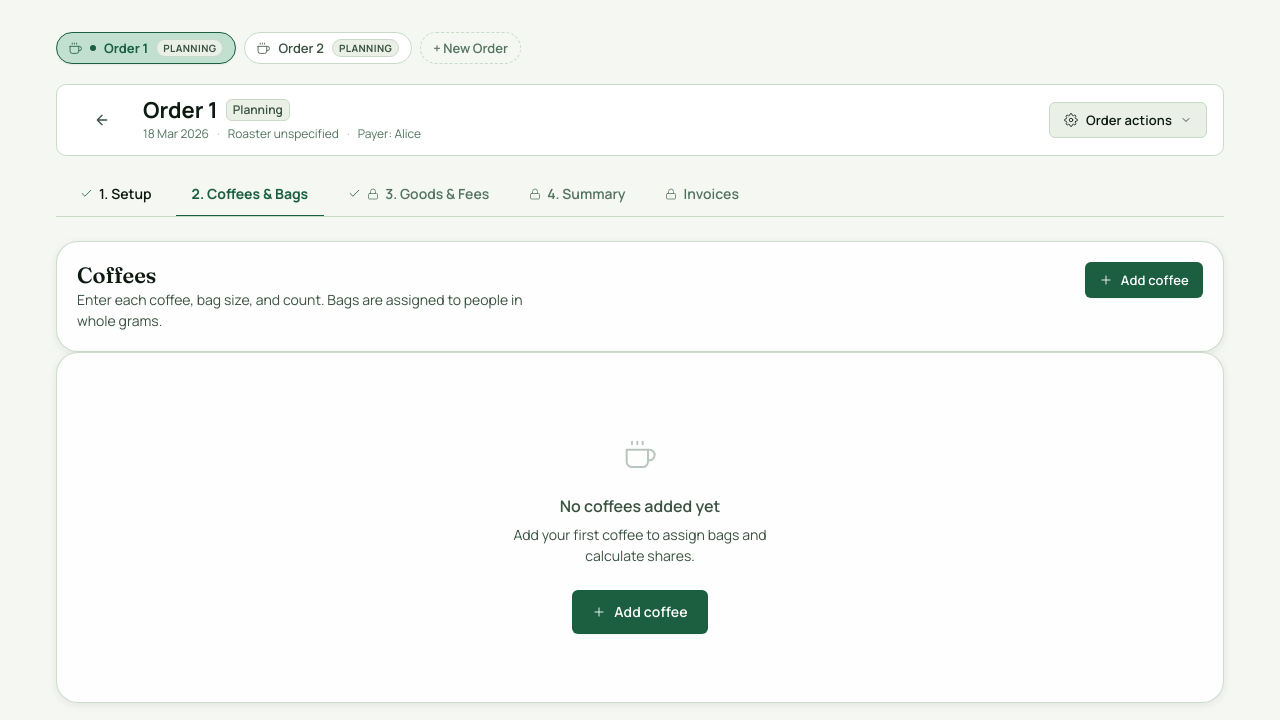
Test: OrderPage component tests › Delete Order › cancel leaves the order alone and confirm deletes it, selecting the next order
Click the button with class "order-actions-trigger". click: (1128, 120)
box: [1049,102,1207,138]
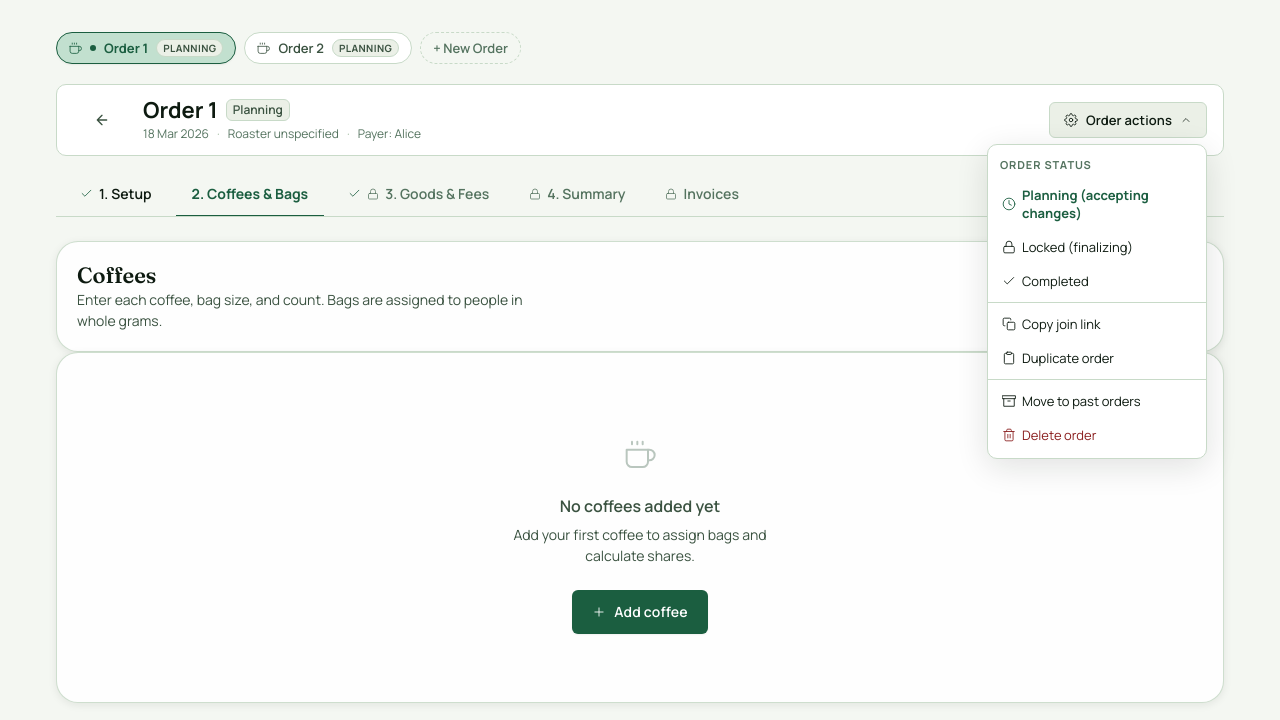
Result: the button with class "dropdown-item" showing "Delete order" is shown
Click the button with class "dropdown-item" showing "Delete order". click: (1097, 435)
box: [988,418,1206,452]
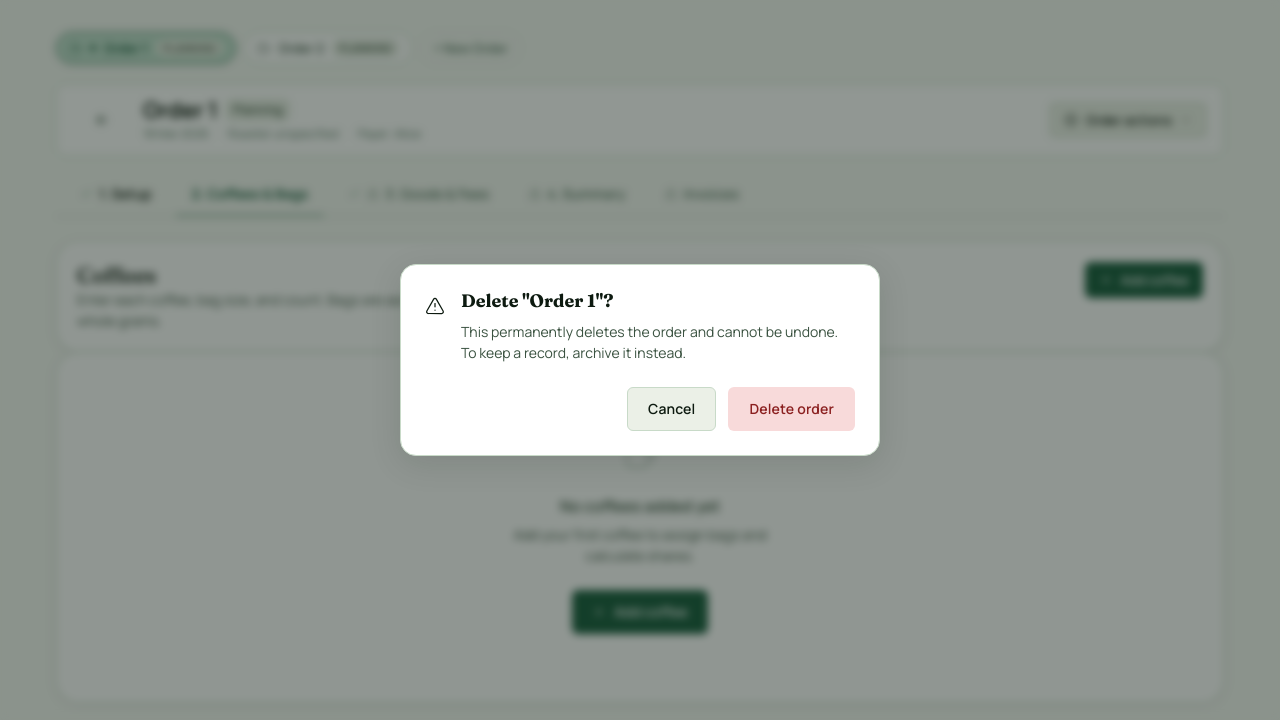
Result: the text "Delete \"Order 1\"?" is shown at [461,289,613,312]
Result: the button "Cancel" is shown
Click the button "Cancel". click: (672, 409)
box: [627,387,716,431]
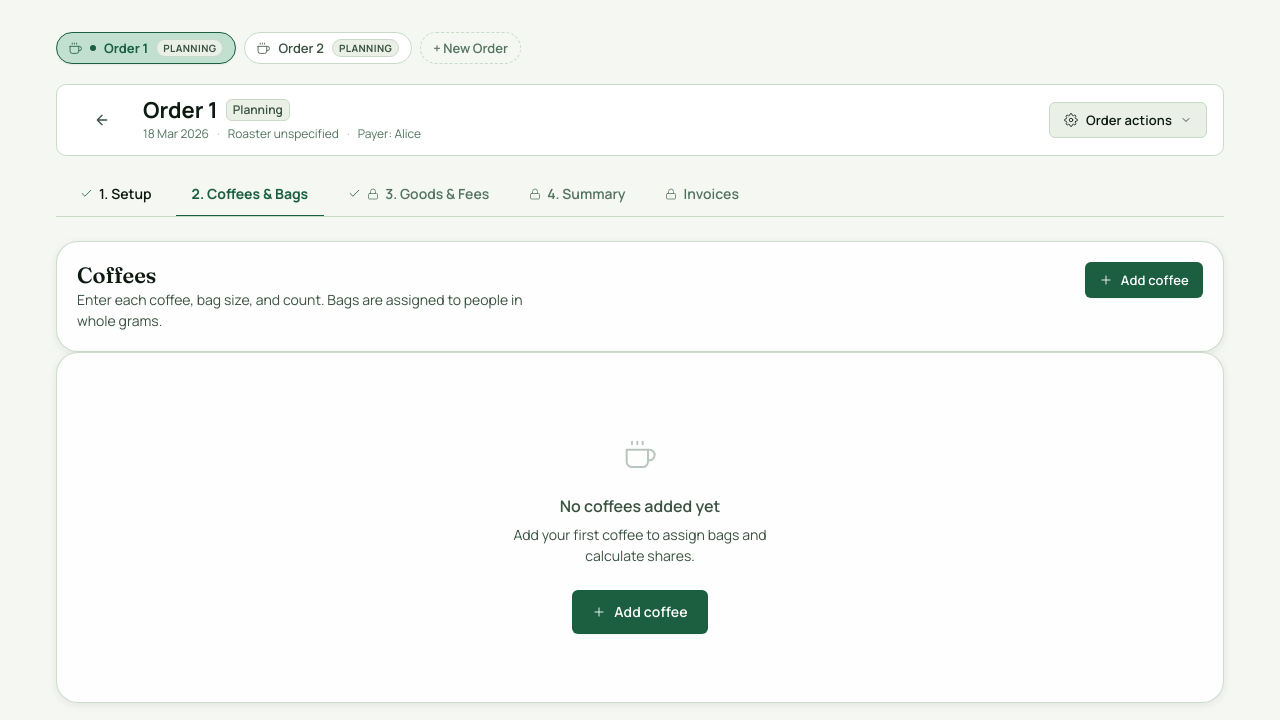
Click the button "Order actions". click: (1128, 120)
box: [1049,102,1207,138]
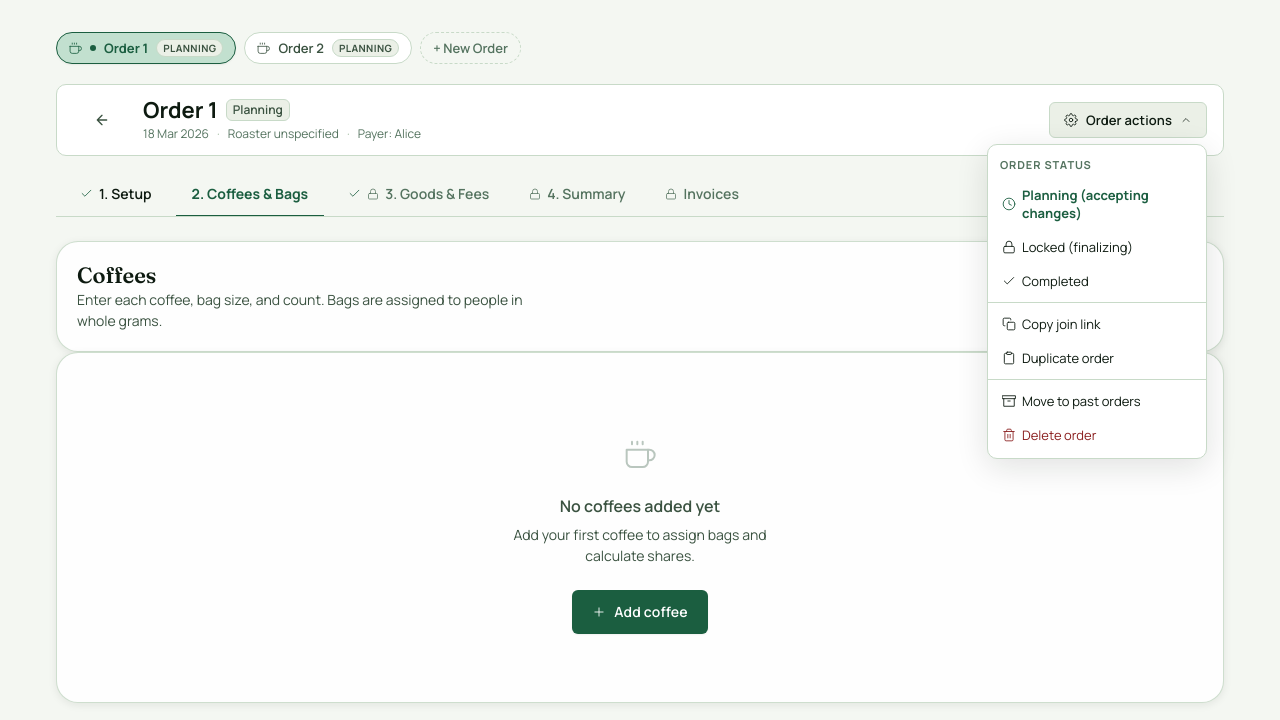
Result: the button with class "dropdown-item" showing "Delete order" is shown
Click the button with class "dropdown-item" showing "Delete order". click: (1097, 435)
box: [988,418,1206,452]
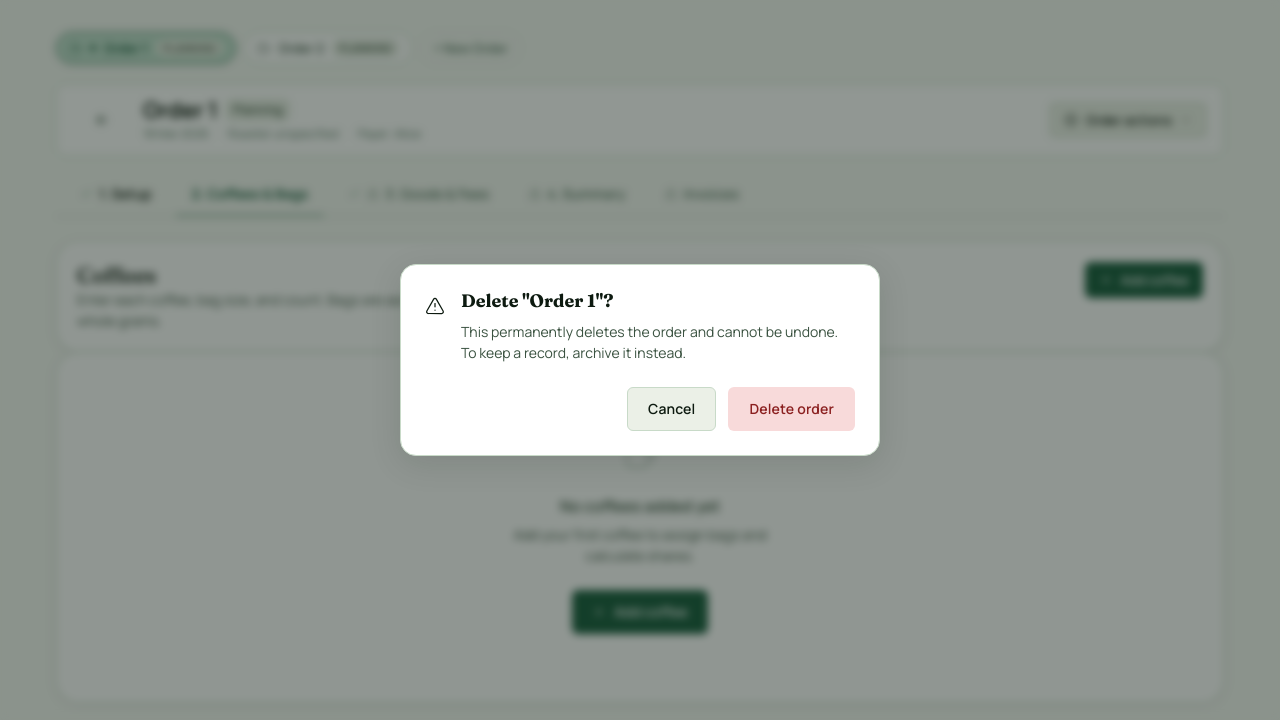
Result: the button "Delete order" is shown
Click the button "Delete order". click: (792, 409)
box: [728,387,855,431]
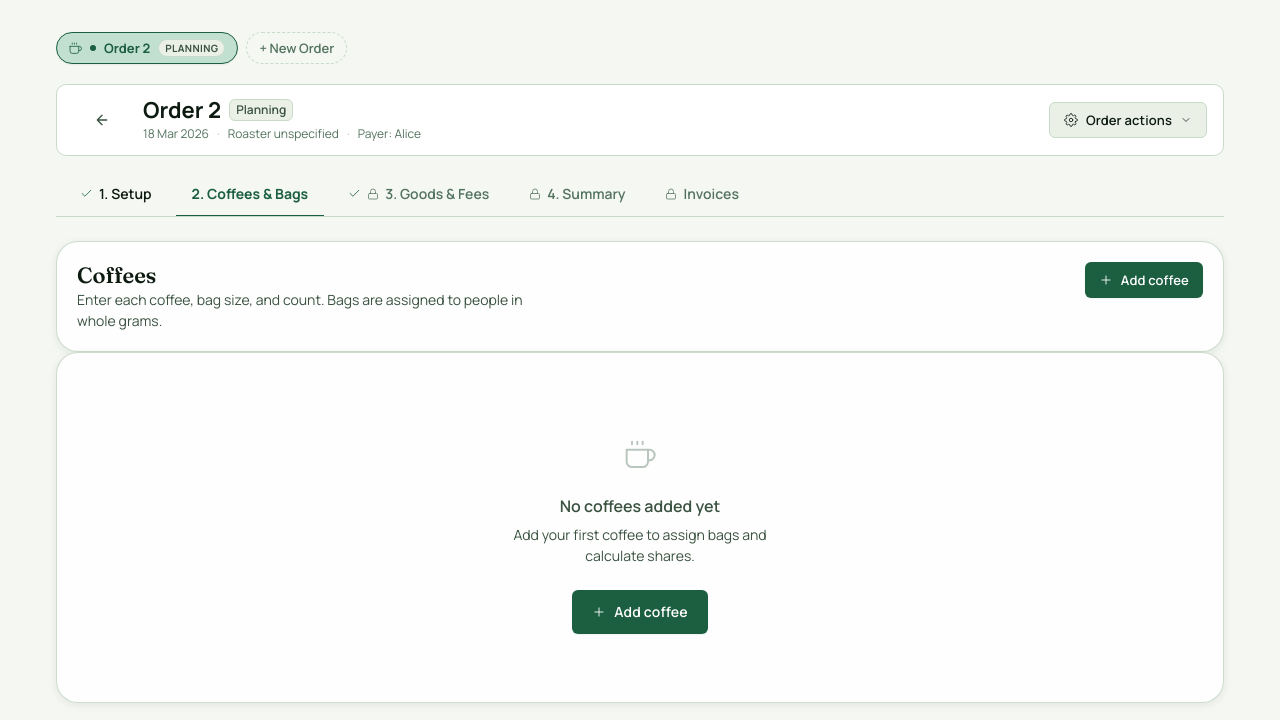
Result: the heading with class "order-header-title" reads "Order 2" at [143,95,221,125]
